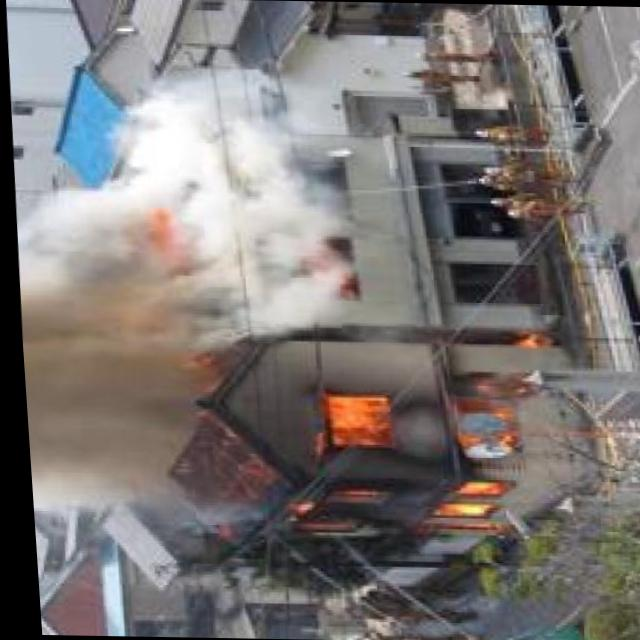Fire: (251, 300, 562, 554)
